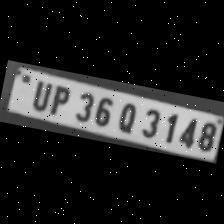1: (158, 108, 180, 146)
3: (68, 86, 96, 124), (136, 103, 164, 140)
4: (173, 111, 201, 150)
6: (89, 92, 117, 130)
8: (194, 116, 219, 153)
P: (45, 81, 74, 118)
Q: (111, 97, 140, 134)
U: (26, 76, 54, 114)
